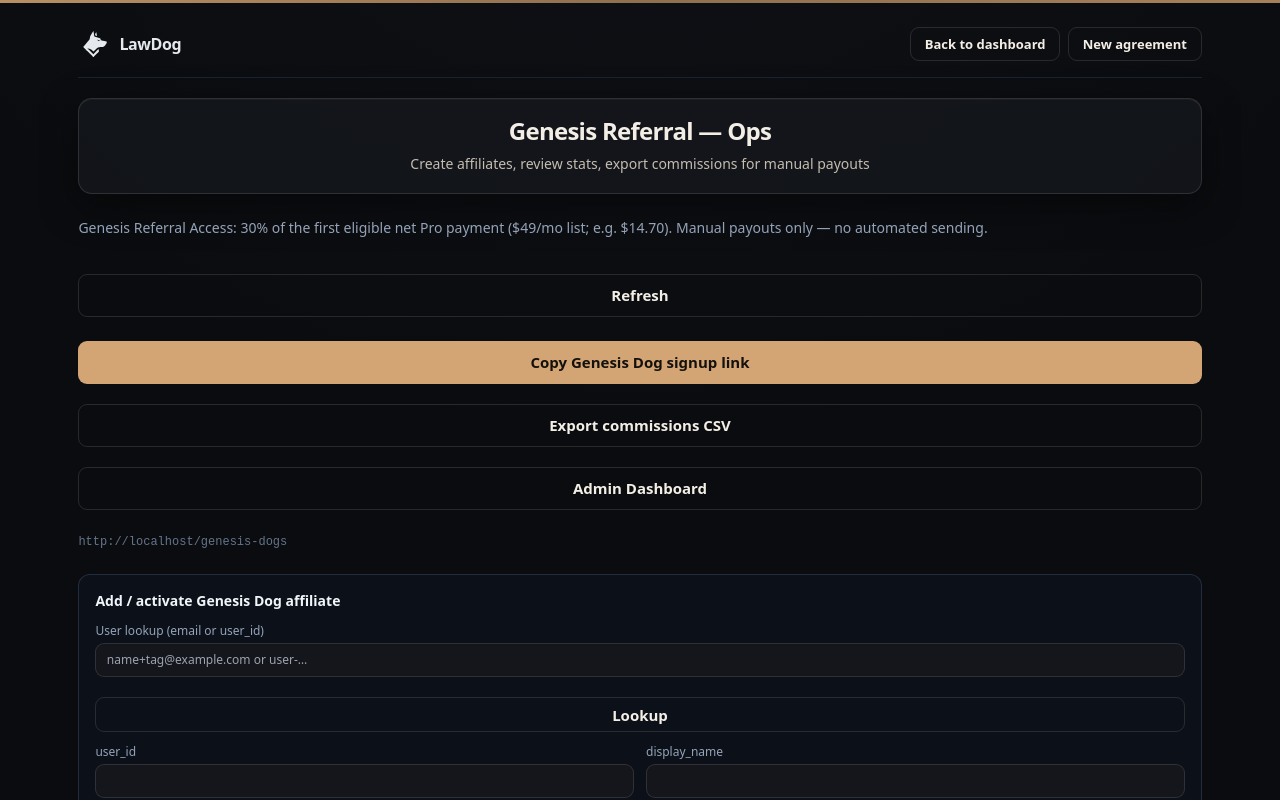
Test: GenesisReferralOpsPage › looks up plus-addressed Gmail without stripping the +tag
In the field with test id "genesis-ops-lookup": x=640, y=660 top-left (95, 643), bottom-right (1185, 677), type "cryptocurated21+lawdogtest2@gmail.com"
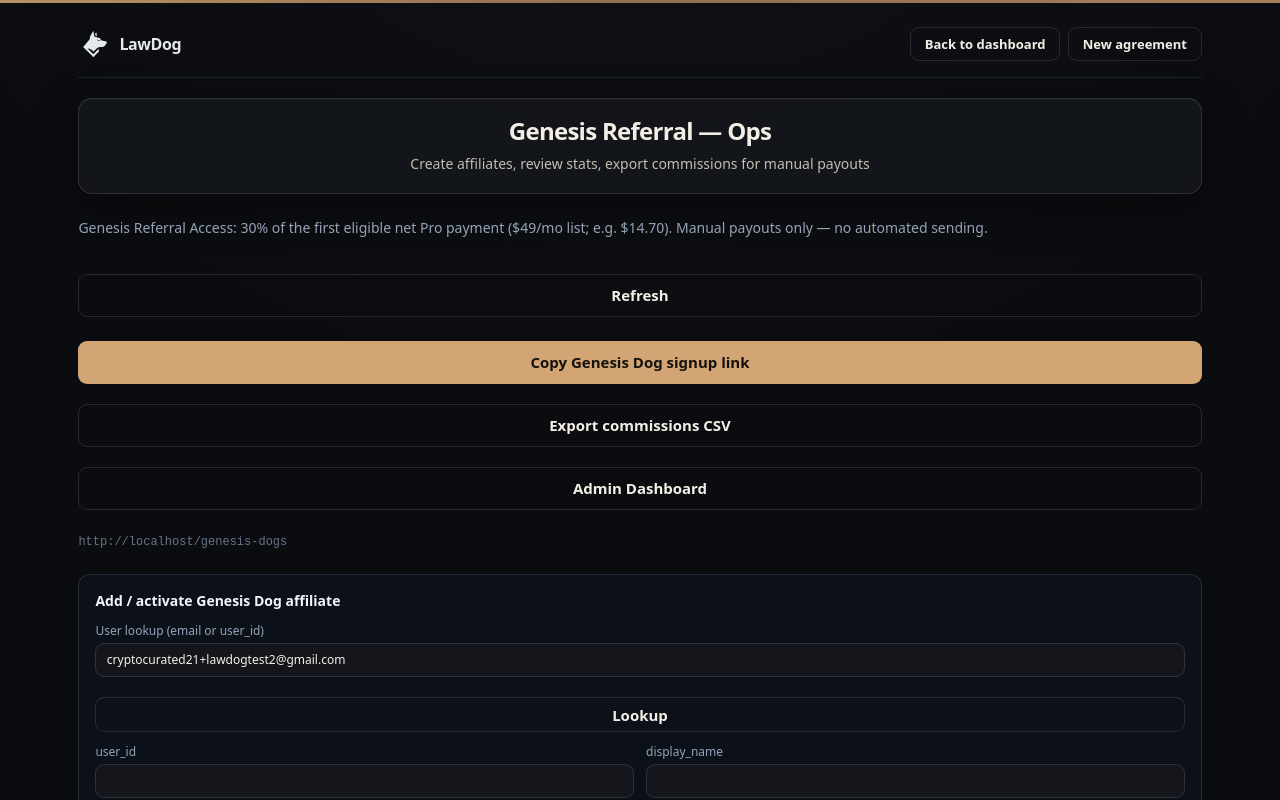
Click the button "Lookup": x=640, y=715 top-left (95, 697), bottom-right (1185, 732)
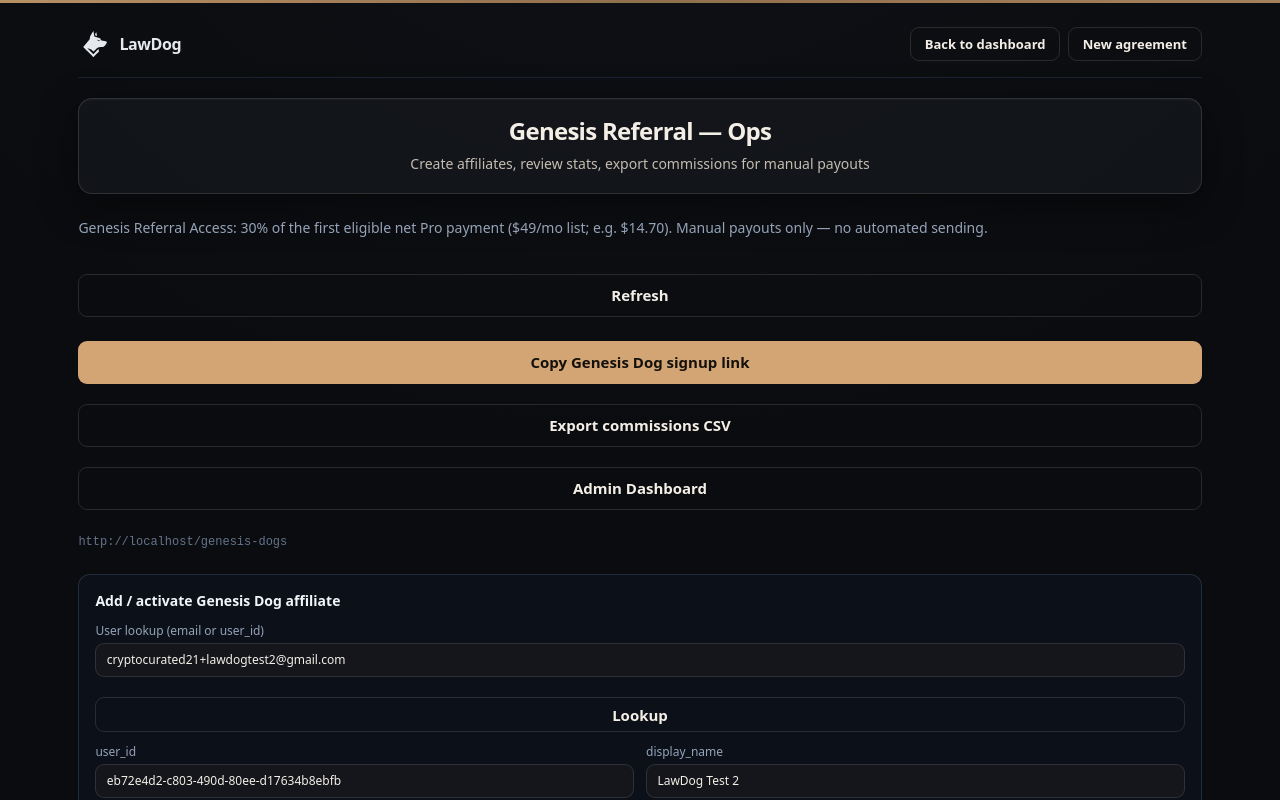
Expected: the field with test id "genesis-ops-user-id" holds "eb72e4d2-c803-490d-80ee-d17634b8ebfb", top-left (95, 764), bottom-right (634, 798)
